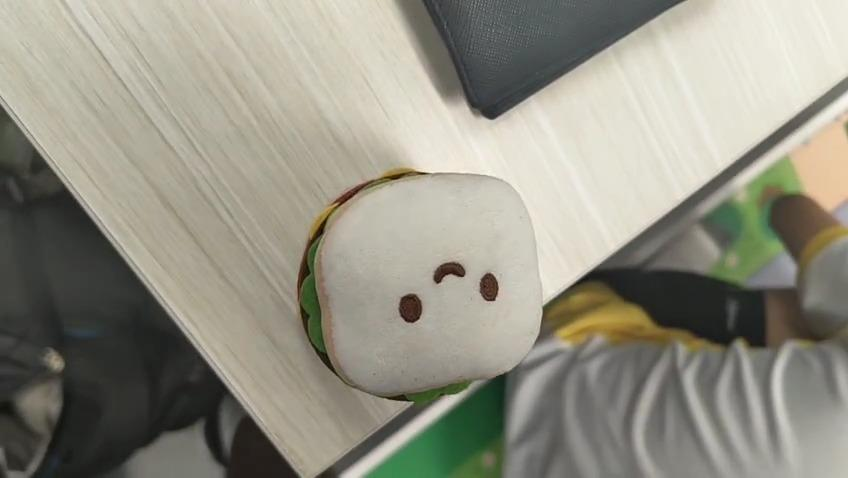objects: (298, 167, 542, 398)
